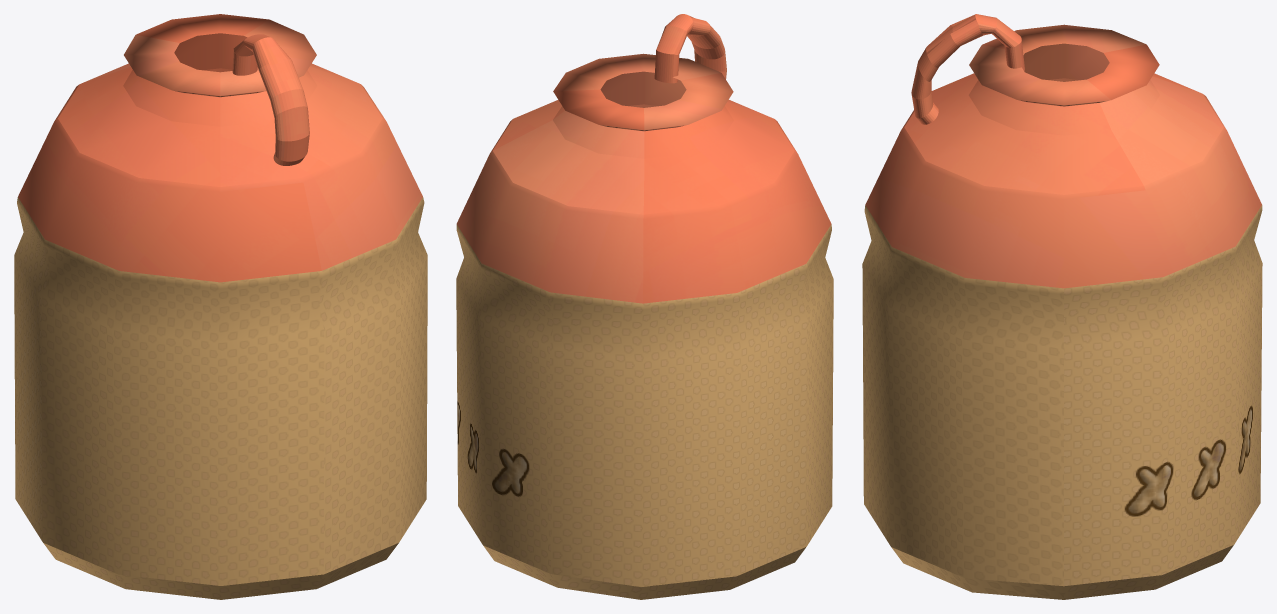
File: MoonshineEmpty.fbx
3 renders of one model, left to right at view 1: azimuth 30°, elevation 25°; view 2: azimuth 150°, elevation 25°; view 3: azimuth 270°, elevation 25°, orthographic. The views are drawn at different scales.
Parts seen in each view (by area): view 1: Moonshine; view 2: Moonshine; view 3: Moonshine.
Part boxes in pixels (bbox=[...]): Moonshine: bbox=[14, 14, 427, 599]; Moonshine: bbox=[456, 14, 833, 599]; Moonshine: bbox=[862, 14, 1262, 599].
Bounding box in the file's own units: 0.1227 × 0.1716 × 0.1227.
